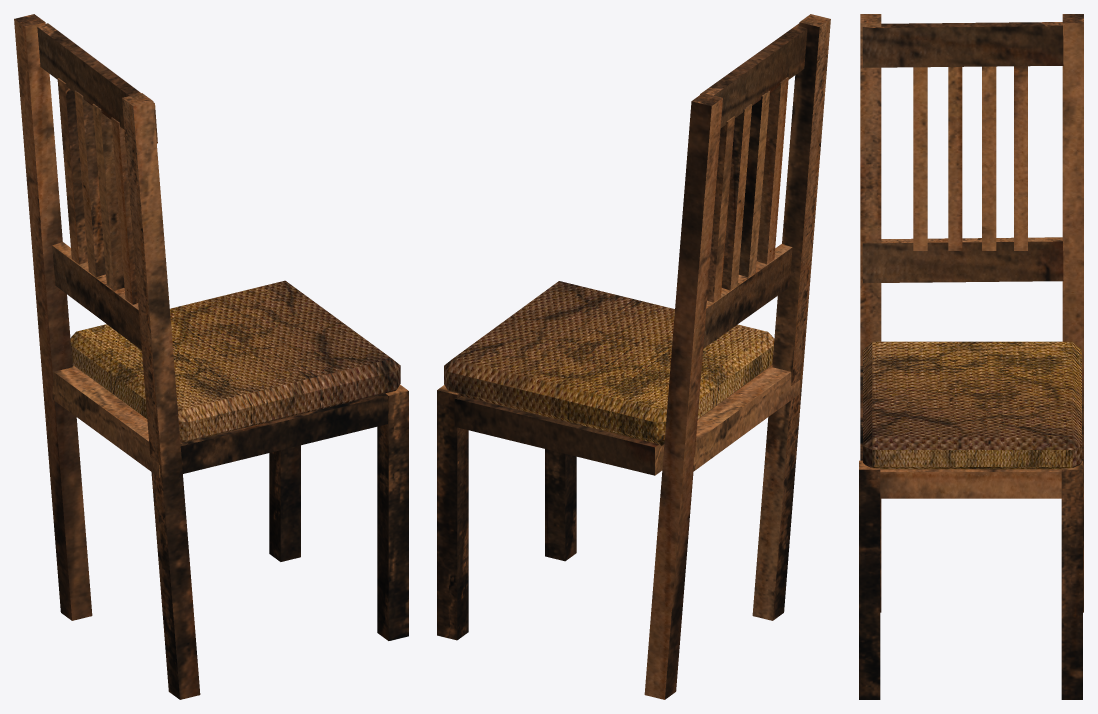
The model's file is chair.fbx.
The picture shows the model from 3 angles, left to right: view 1: azimuth 30°, elevation 25°; view 2: azimuth 150°, elevation 25°; view 3: azimuth 270°, elevation 25°; orthographic projection. The views are drawn at different scales.
Parts seen in each view (by area): view 1: pCube20, pCube10; view 2: pCube20, pCube10; view 3: pCube20, pCube10.
Boxes of the visible parts, <box> form: pCube20: <box>14,14,408,699</box>; pCube10: <box>70,280,400,441</box>; pCube20: <box>437,14,830,699</box>; pCube10: <box>444,281,774,445</box>; pCube20: <box>859,14,1083,699</box>; pCube10: <box>863,341,1081,469</box>.
Bounding box in the file's own units: 19.88 × 41.78 × 14.99.
Materials: 2 (2 with a texture image).
